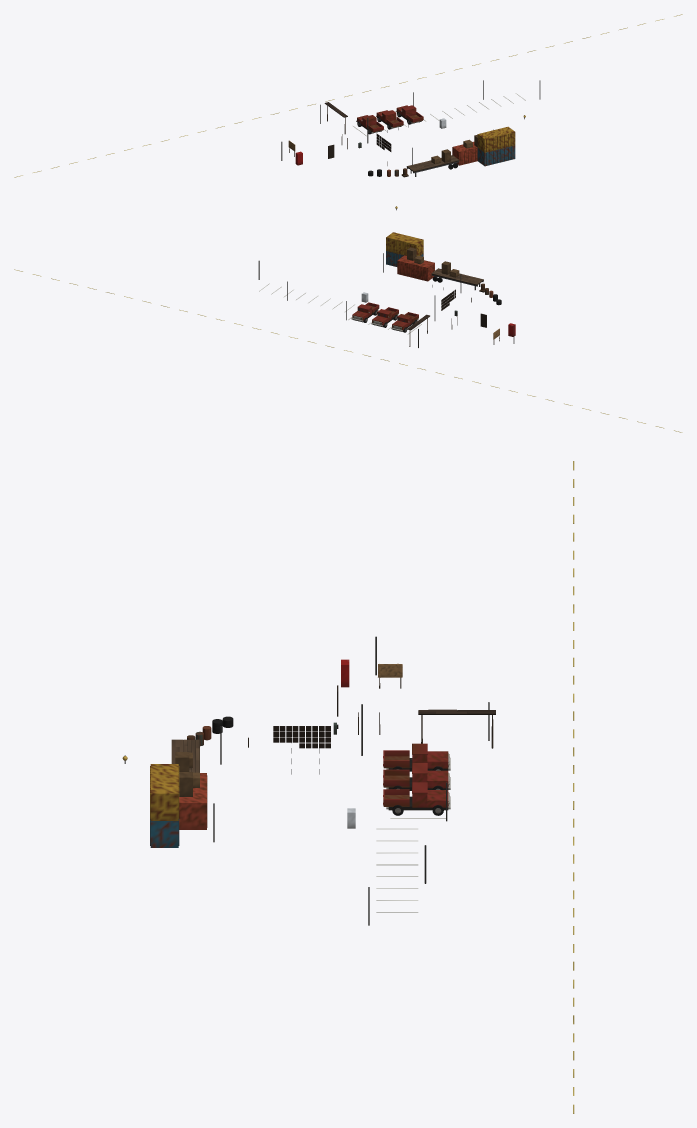
File: LobbyParts.glb
3 views of the same model, one above another, from view 1: azimuth 30°, elevation 25°; view 2: azimuth 150°, elevation 25°; view 3: azimuth 270°, elevation 25° (orthographic). The views are drawn at different scales.
Visible parts, largest first — view 1: LobbyParts_hs_rust, LobbyParts_hs_plastic, LobbyParts_hs_metal, LobbyParts_hs_wood, LobbyParts_hs_floor; view 2: LobbyParts_hs_rust, LobbyParts_hs_metal, LobbyParts_hs_plastic, LobbyParts_hs_wood, LobbyParts_hs_floor; view 3: LobbyParts_hs_rust, LobbyParts_hs_wood, LobbyParts_hs_plastic, LobbyParts_hs_metal, LobbyParts_hs_floor.
Part boxes in pixels (<box>): LobbyParts_hs_rust: <box>357,105,515,176</box>; LobbyParts_hs_plastic: <box>14,14,682,177</box>; LobbyParts_hs_metal: <box>281,80,540,176</box>; LobbyParts_hs_wood: <box>328,133,477,165</box>; LobbyParts_hs_floor: <box>324,102,459,177</box>; LobbyParts_hs_rust: <box>352,232,493,330</box>; LobbyParts_hs_metal: <box>258,206,515,347</box>; LobbyParts_hs_plastic: <box>14,269,682,432</box>; LobbyParts_hs_wood: <box>407,247,486,327</box>; LobbyParts_hs_floor: <box>407,268,484,330</box>; LobbyParts_hs_rust: <box>150,726,448,847</box>; LobbyParts_hs_wood: <box>175,685,338,796</box>; LobbyParts_hs_plastic: <box>212,461,574,1113</box>; LobbyParts_hs_metal: <box>122,636,489,925</box>; LobbyParts_hs_floor: <box>171,709,495,772</box>.
Bounding box in the file's own units: 438 × 29.9 × 128.
